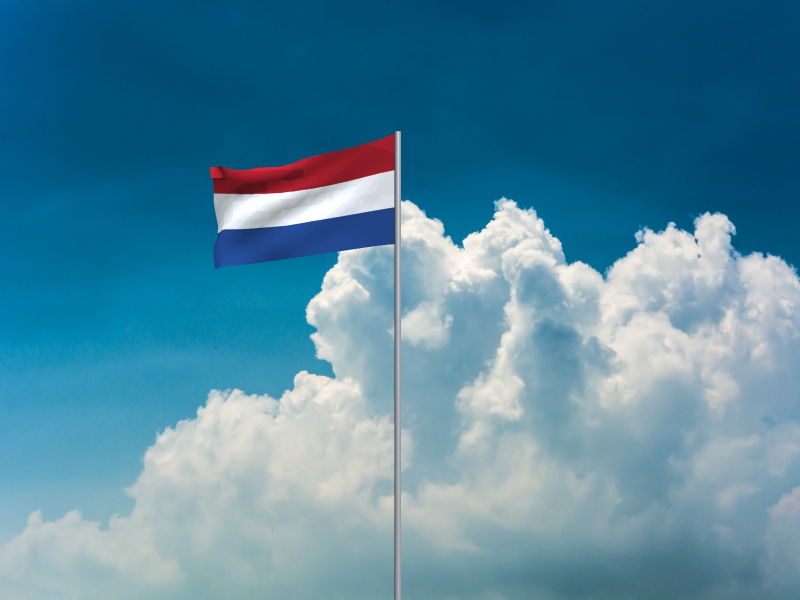nl: (209, 134, 395, 271)
